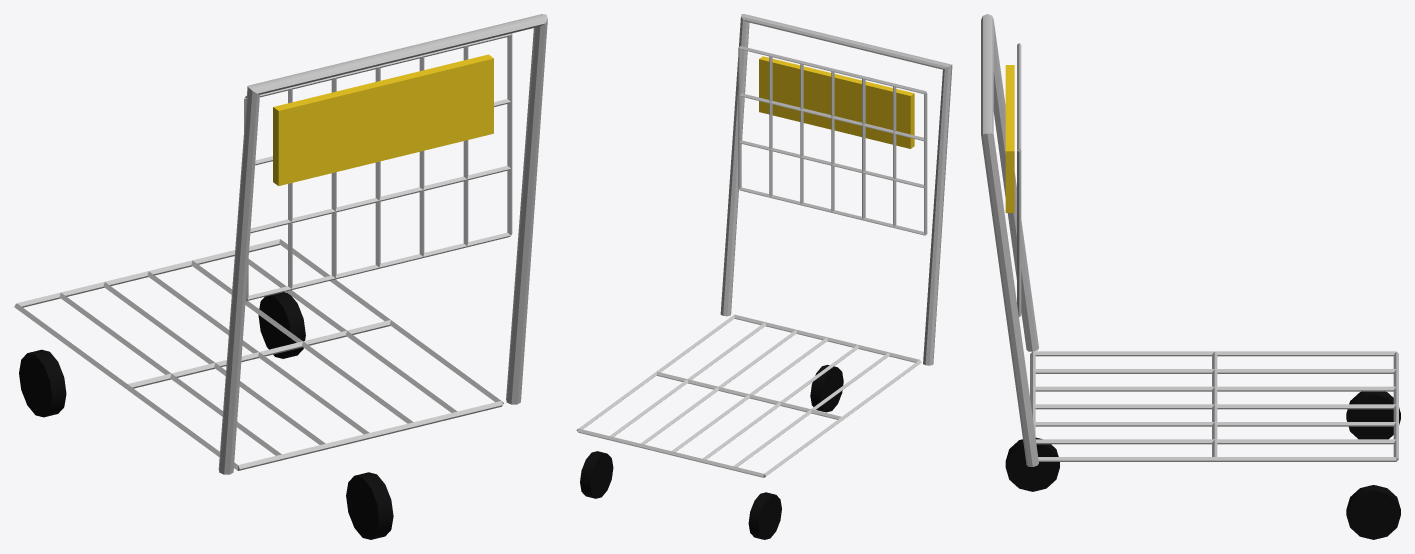
Rendered from airport.landside.trolley.glb.
The picture shows the model from 3 angles, left to right: view 1: azimuth 30°, elevation 25°; view 2: azimuth 150°, elevation 25°; view 3: azimuth 270°, elevation 25°; orthographic projection. The views are drawn at different scales.
Parts seen in each view (by area): view 1: main__steel_stainless, main__plastic_yellow, main__rubber; view 2: main__steel_stainless, main__plastic_yellow, main__rubber; view 3: main__steel_stainless, main__rubber, main__plastic_yellow.
Part boxes in pixels (left/top/right/bottom): main__steel_stainless: left=14, top=14, right=547, bottom=474; main__plastic_yellow: left=273, top=54, right=493, bottom=185; main__rubber: left=19, top=292, right=393, bottom=539; main__steel_stainless: left=576, top=14, right=952, bottom=477; main__plastic_yellow: left=759, top=56, right=914, bottom=148; main__rubber: left=580, top=365, right=843, bottom=539; main__steel_stainless: left=981, top=14, right=1398, bottom=466; main__rubber: left=1005, top=391, right=1400, bottom=539; main__plastic_yellow: left=1005, top=65, right=1014, bottom=212.
Size of the model in its own units: 0.628 by 1.01 by 0.9239.
